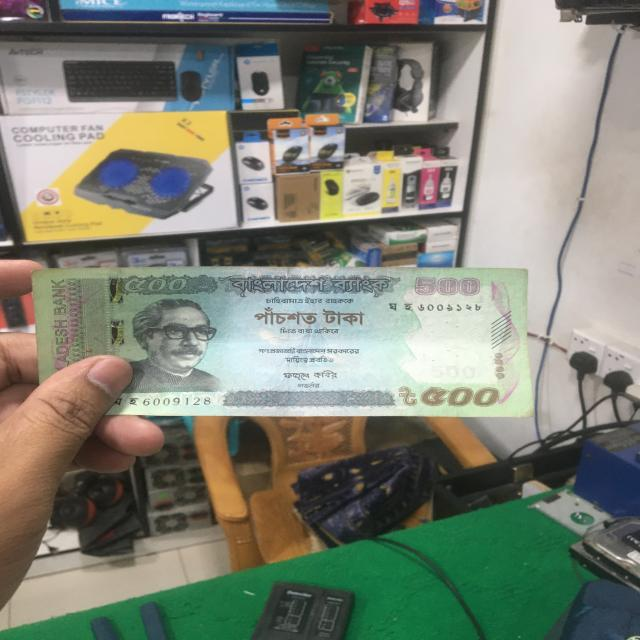Taka: (38, 270, 536, 413)
